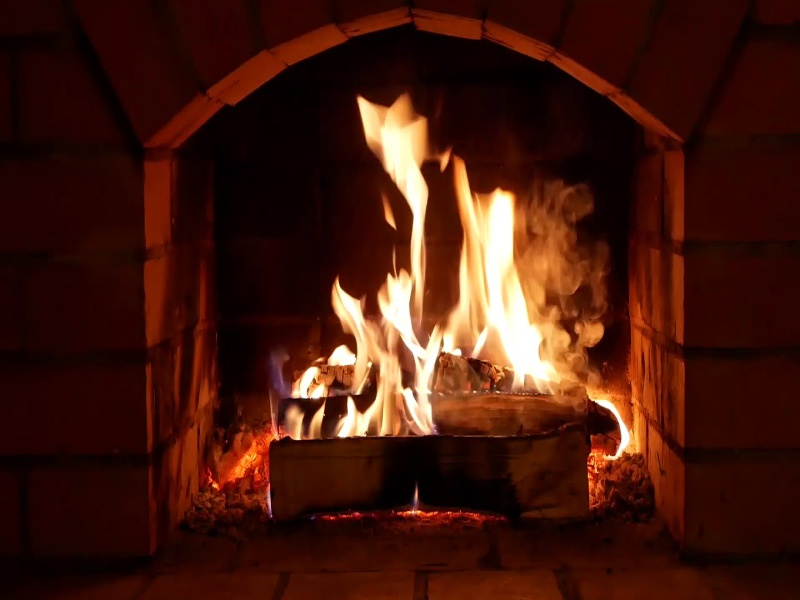fire: (282, 89, 580, 437)
